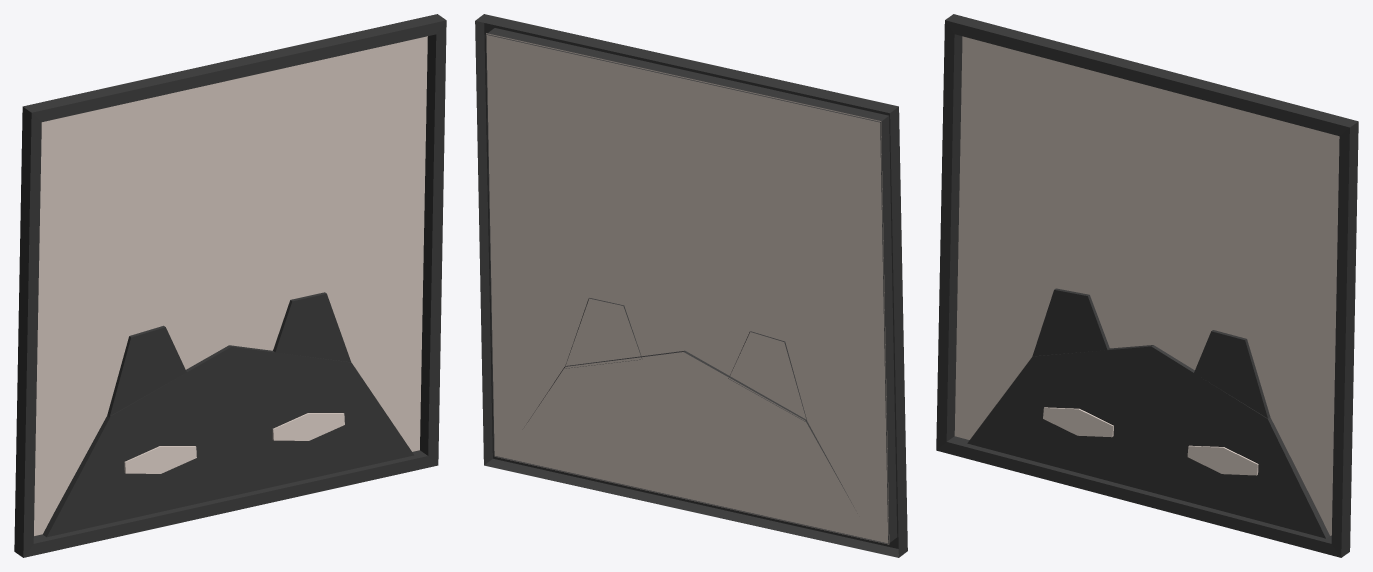
Rendered from Picture_9.fbx.
3 renders of one model, left to right at view 1: azimuth 30°, elevation 25°; view 2: azimuth 150°, elevation 25°; view 3: azimuth 330°, elevation 25°, orthographic. The views are drawn at different scales.
Visible parts, largest first — view 1: Picture_9; view 2: Picture_9; view 3: Picture_9.
Boxes of the visible parts, x1,y1,x2,y2 form: Picture_9: (14, 14, 446, 557); Picture_9: (475, 14, 907, 557); Picture_9: (936, 14, 1358, 557).
Bounding box in the file's own units: 80.95 × 3.37 × 82.52.
